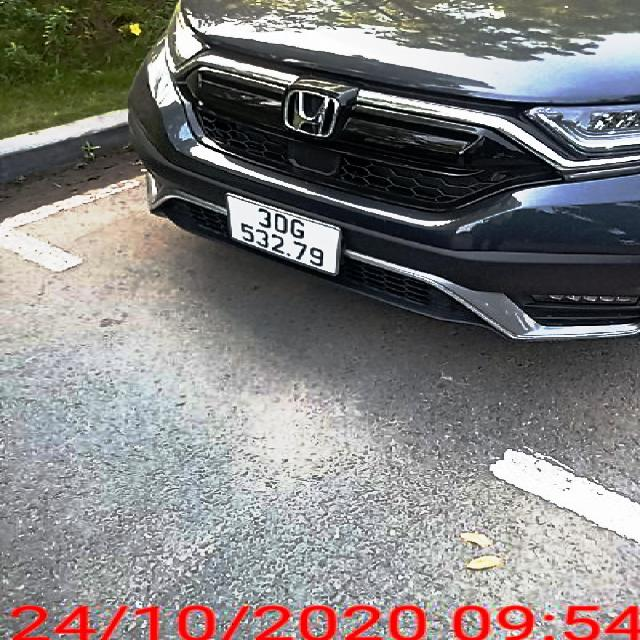license_plate: (229, 196, 339, 276)
